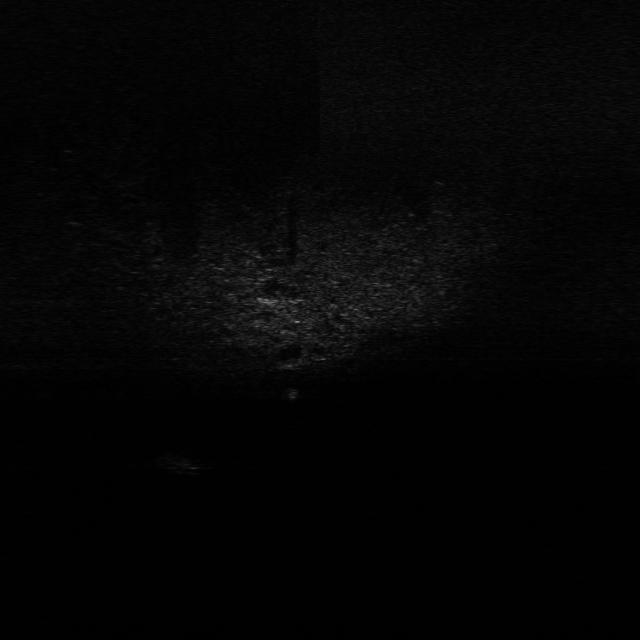circle cage: (163, 448, 213, 477)
cylinder: (283, 386, 302, 404)
